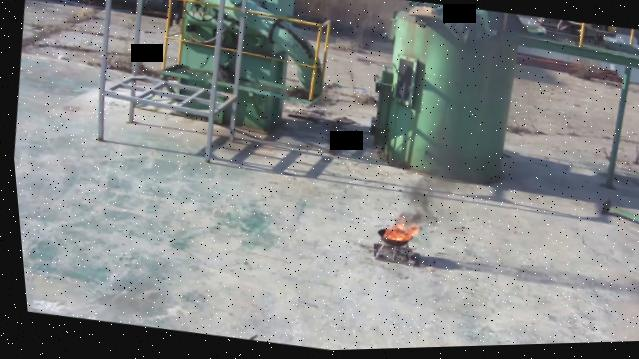fire: (377, 221, 415, 247)
smoke: (385, 124, 483, 241)
